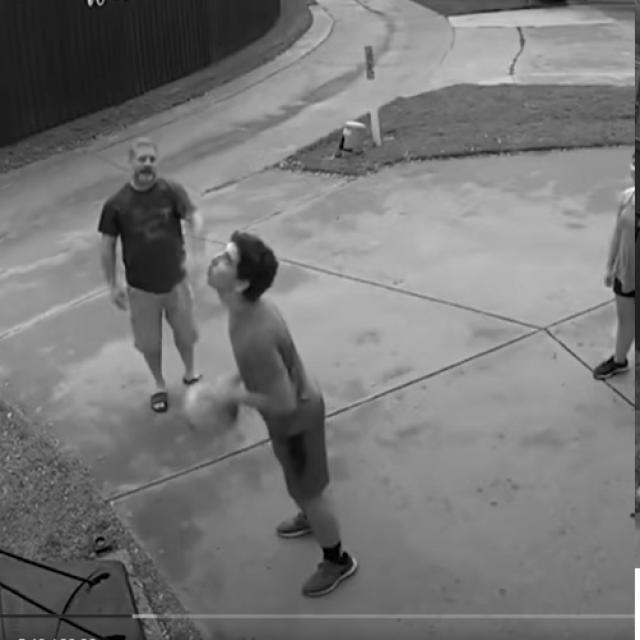Invader: (196, 228, 360, 598), (96, 137, 204, 412), (593, 147, 640, 384)
